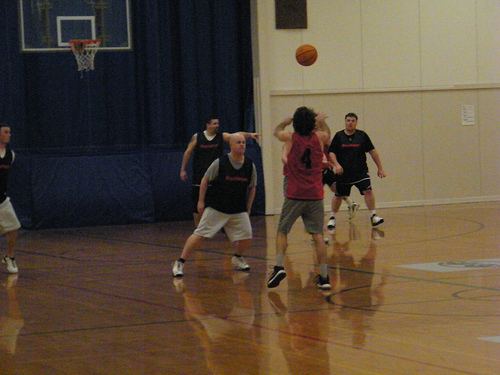basketball: (295, 44, 318, 67)
